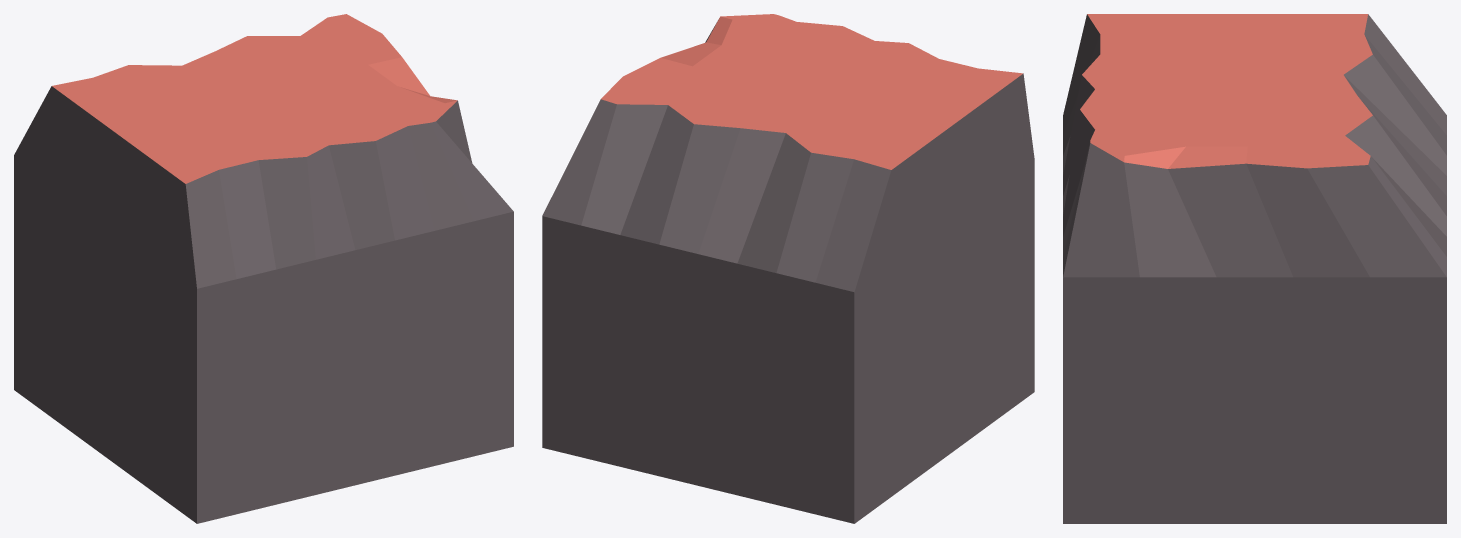
The model's file is corner2.fbx.
3 views of the same model, side by side, from view 1: azimuth 30°, elevation 25°; view 2: azimuth 150°, elevation 25°; view 3: azimuth 270°, elevation 25° (orthographic). The views are drawn at different scales.
Parts seen in each view (by area): view 1: corner.001; view 2: corner.001; view 3: corner.001.
Part boxes in pixels (x1=…): corner.001: x1=14, y1=14, x2=513, y2=523; corner.001: x1=542, y1=14, x2=1034, y2=523; corner.001: x1=1063, y1=14, x2=1446, y2=523.
Bounding box in the file's own units: 200 × 200 × 200.
